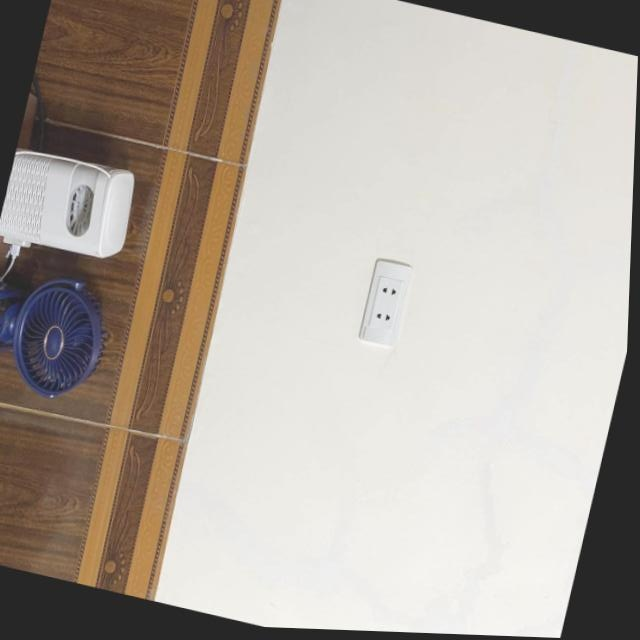outlet: (357, 256, 416, 349)
